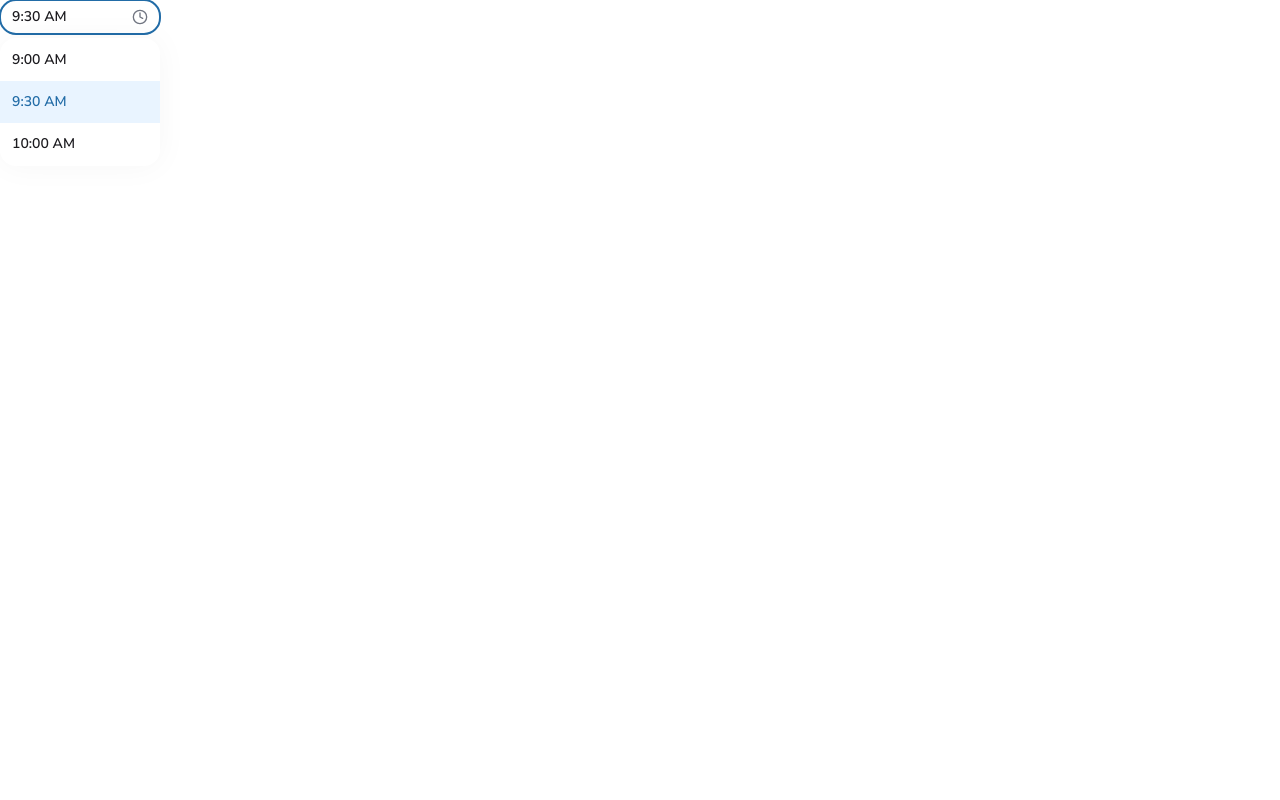
Test case: TimePicker opening from the field › reverts the draft and closes on Escape
(page scrolled)
Replace the text in the field named "Time" with "10" at (68, 17), box [12,8,124,26]
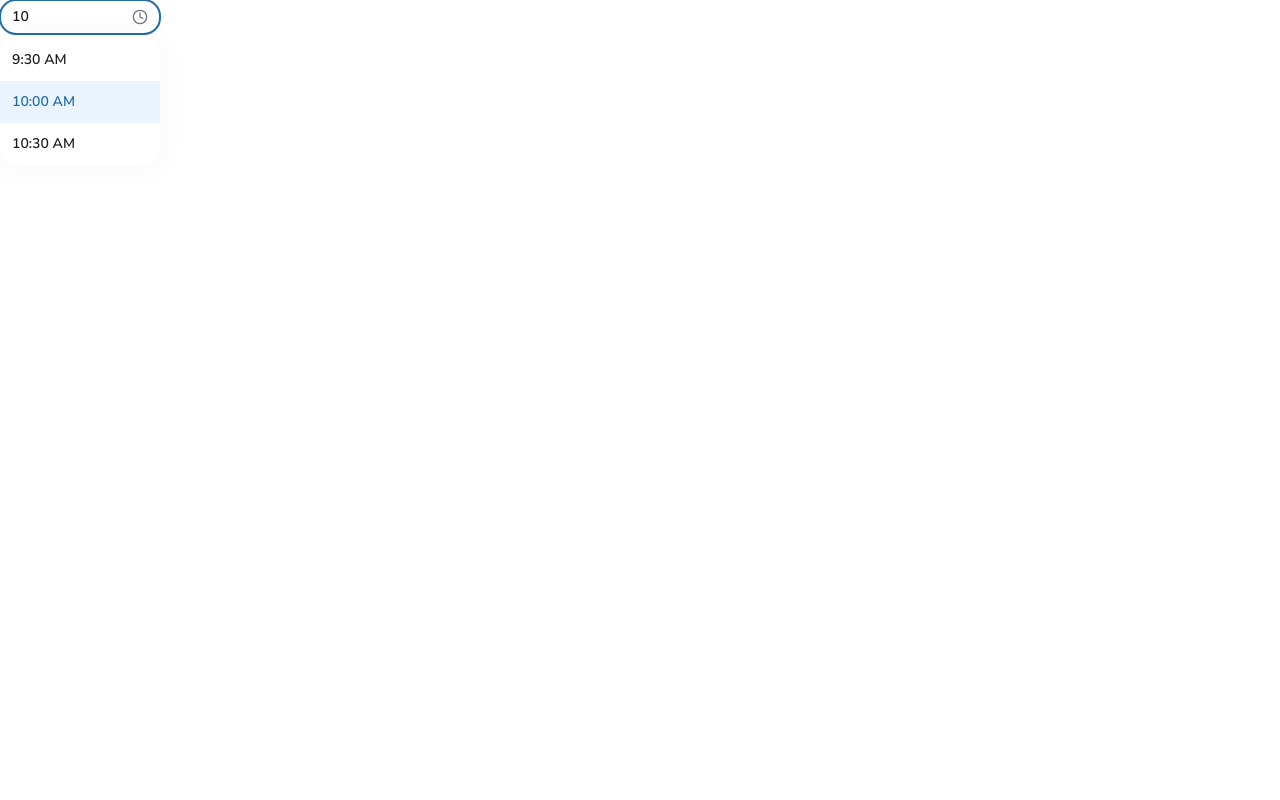
Press Escape in the field named "Time", box [12,8,124,26]
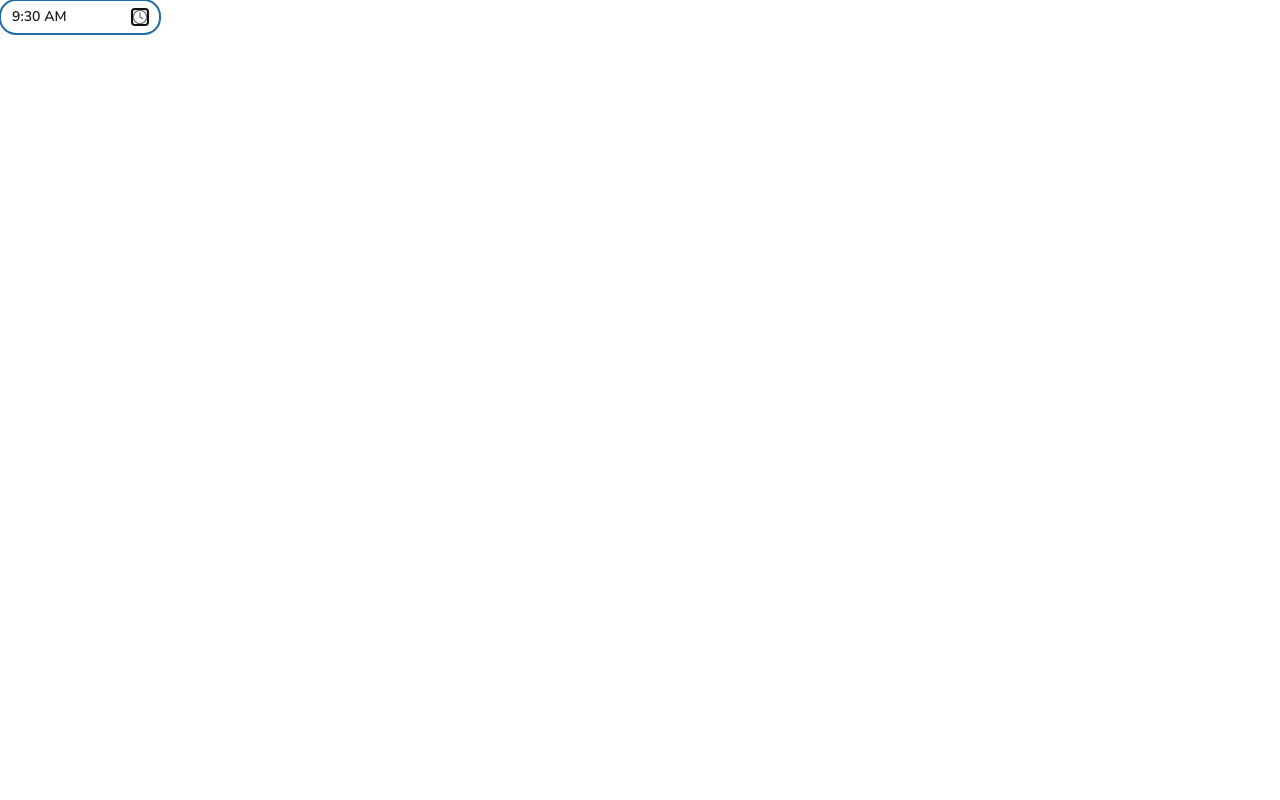
Check: the field named "Time" holds "9:30 AM", box [12,8,124,26]
